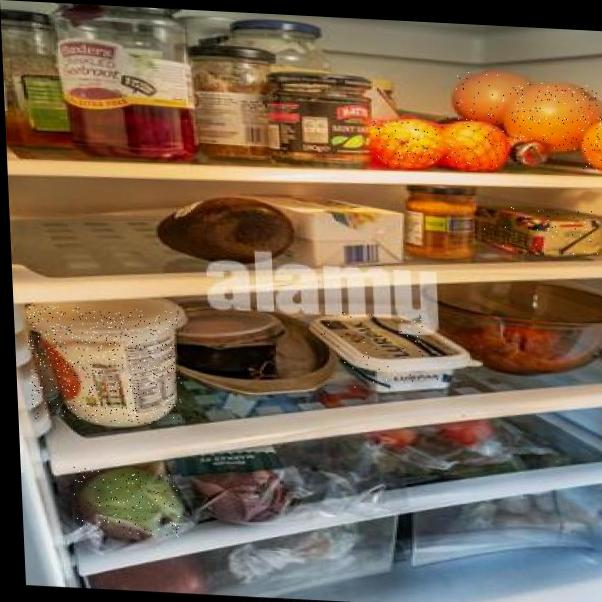apple: (72, 466, 183, 538)
butter: (478, 206, 602, 258)
cream cheese: (315, 310, 466, 393)
orange: (511, 81, 599, 152), (455, 69, 525, 122), (438, 118, 507, 169), (372, 118, 439, 167), (580, 111, 602, 170)
yoghurt: (27, 304, 184, 427)
